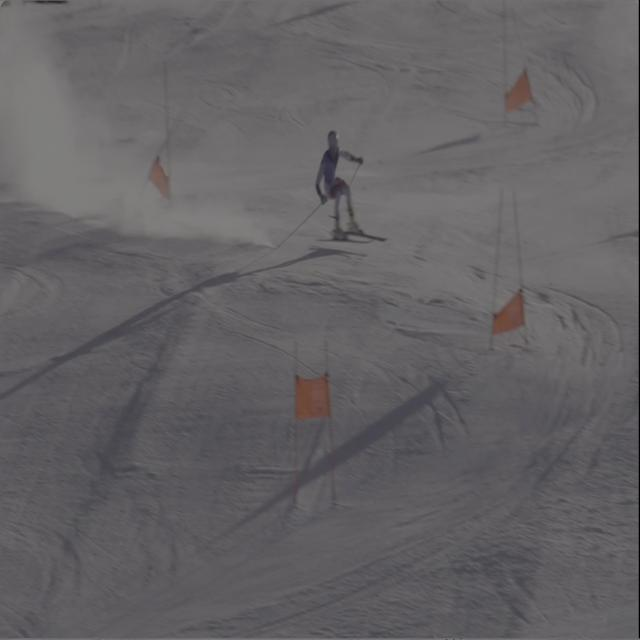gate: (317, 337, 345, 516), (507, 184, 530, 366), (485, 184, 508, 358), (284, 336, 305, 522)
